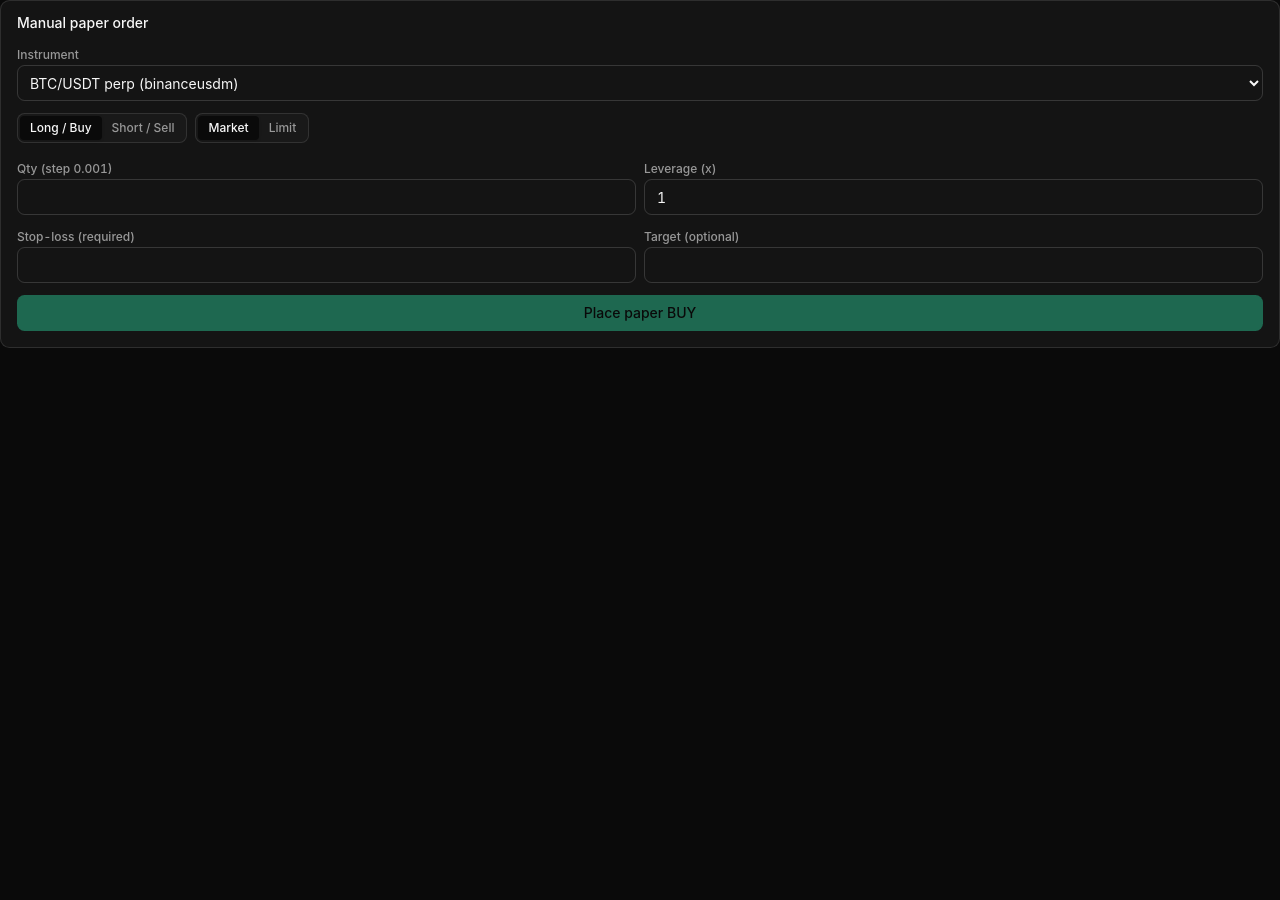
Test case: OrderPanel › places an approved order and offers max-by-risk sizing
Type "0.005" into the field labelled "Qty (step 0.001)" at (326, 197), box 17,179 -> 636,215
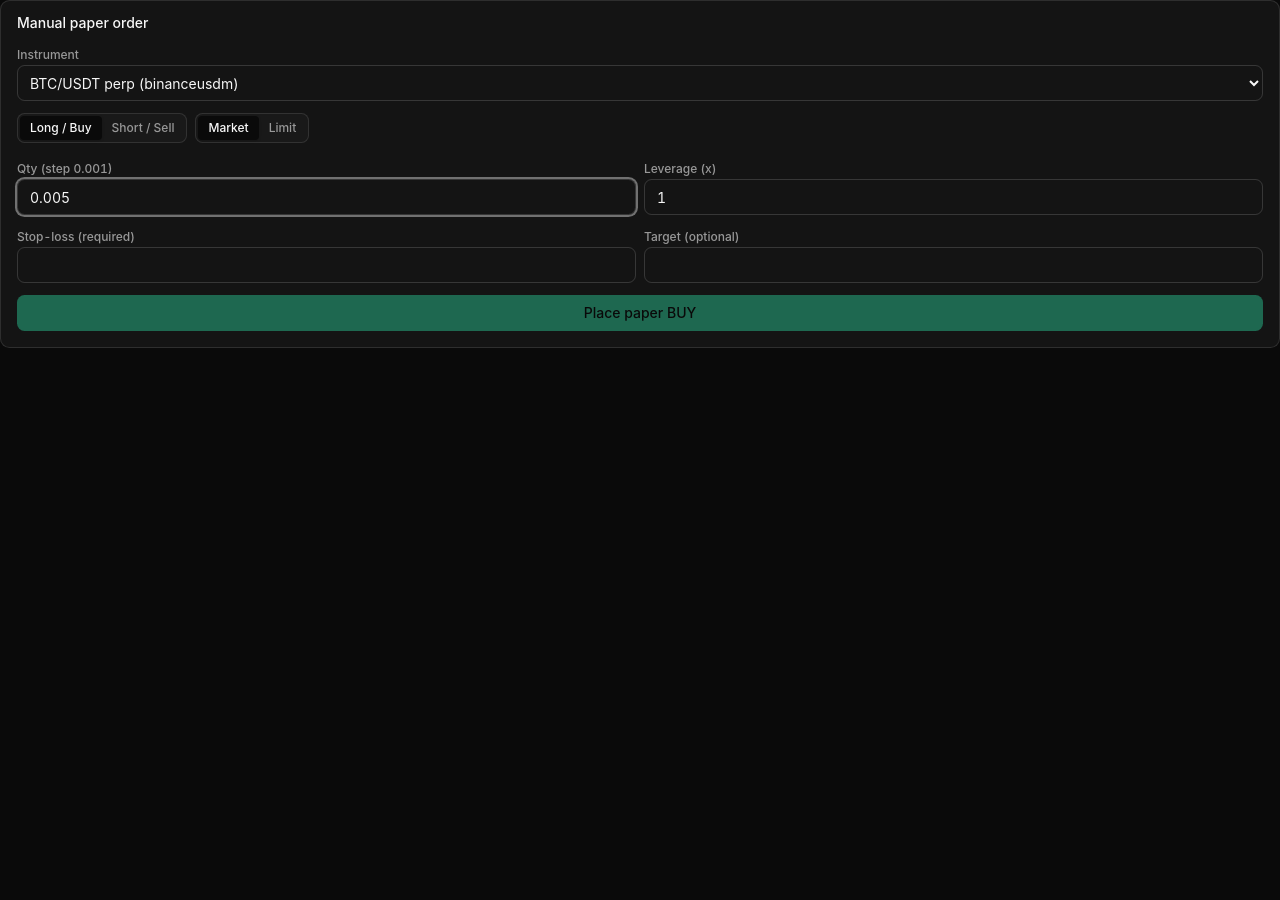
Type "64000" into the field labelled "Stop-loss (required)" at (326, 265), box 17,247 -> 636,283
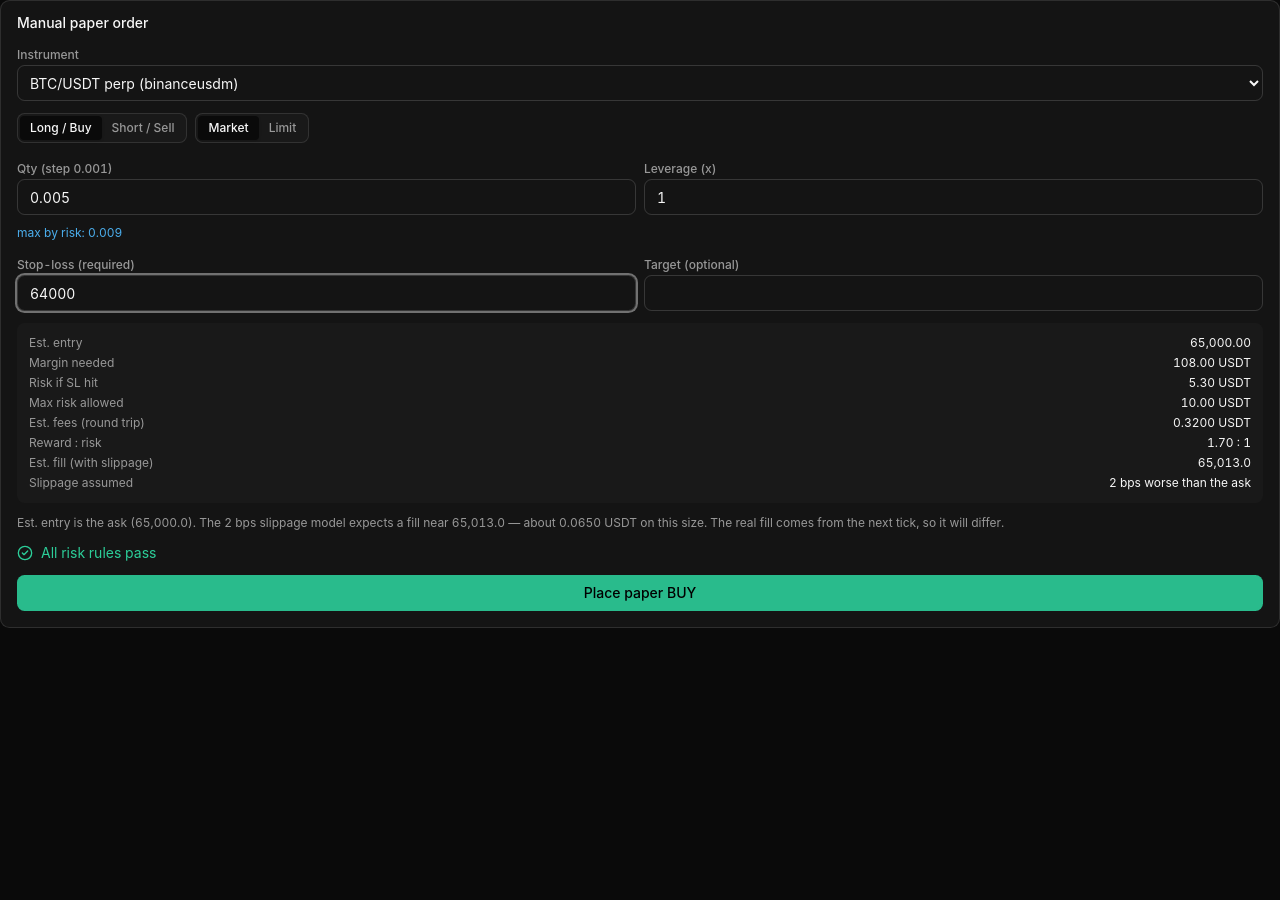
Check: the element with test id "risk-verdict" reads "All risk rules pass", box 41,544 -> 156,561
Click the button "max by risk: 0.009" at (70, 233), box 17,225 -> 122,241
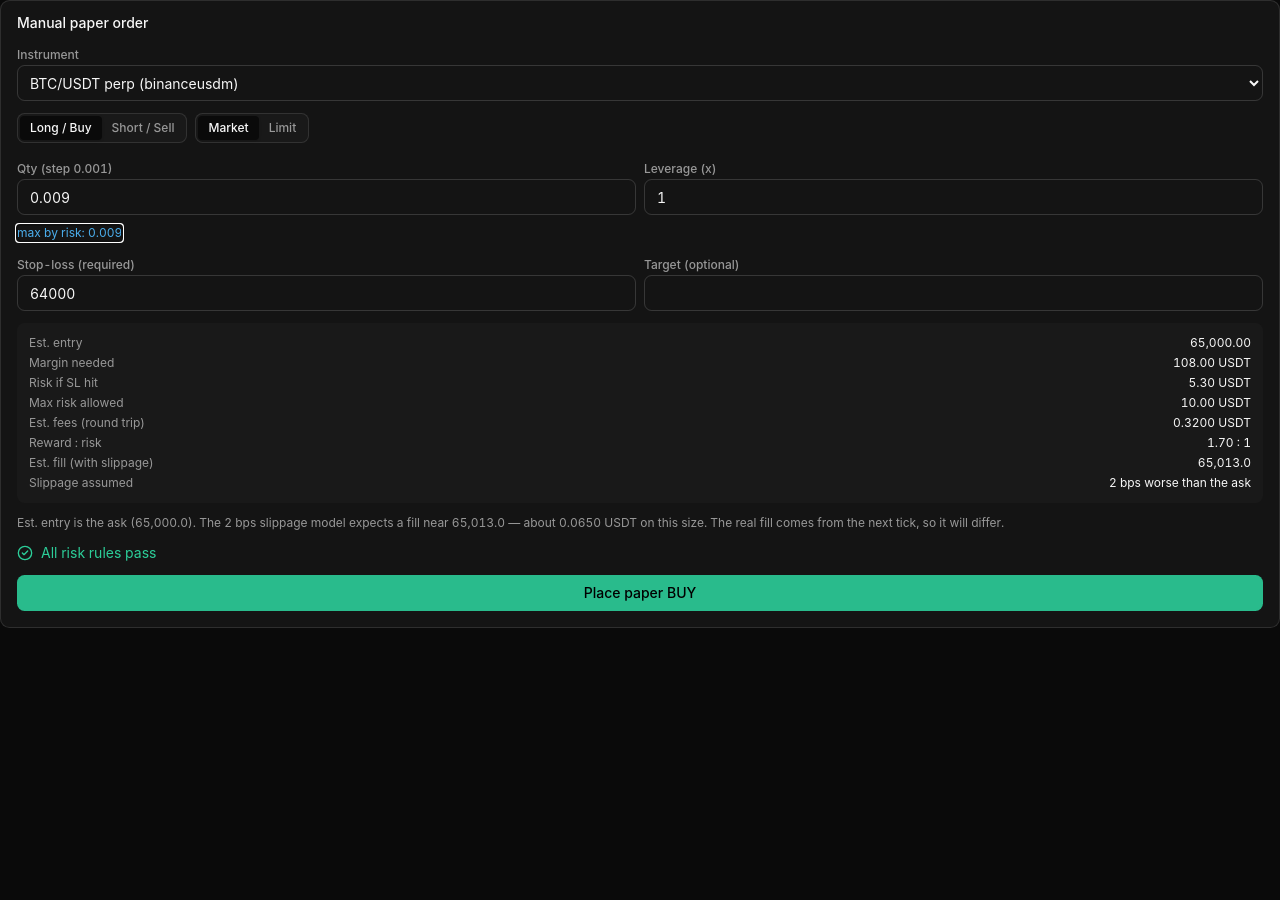
Check: the button "Place paper BUY" is enabled
Check: the field labelled "Qty (step 0.001)" holds "0.009", box 17,179 -> 636,215
Click the button "Place paper BUY" at (640, 593), box 17,575 -> 1263,611
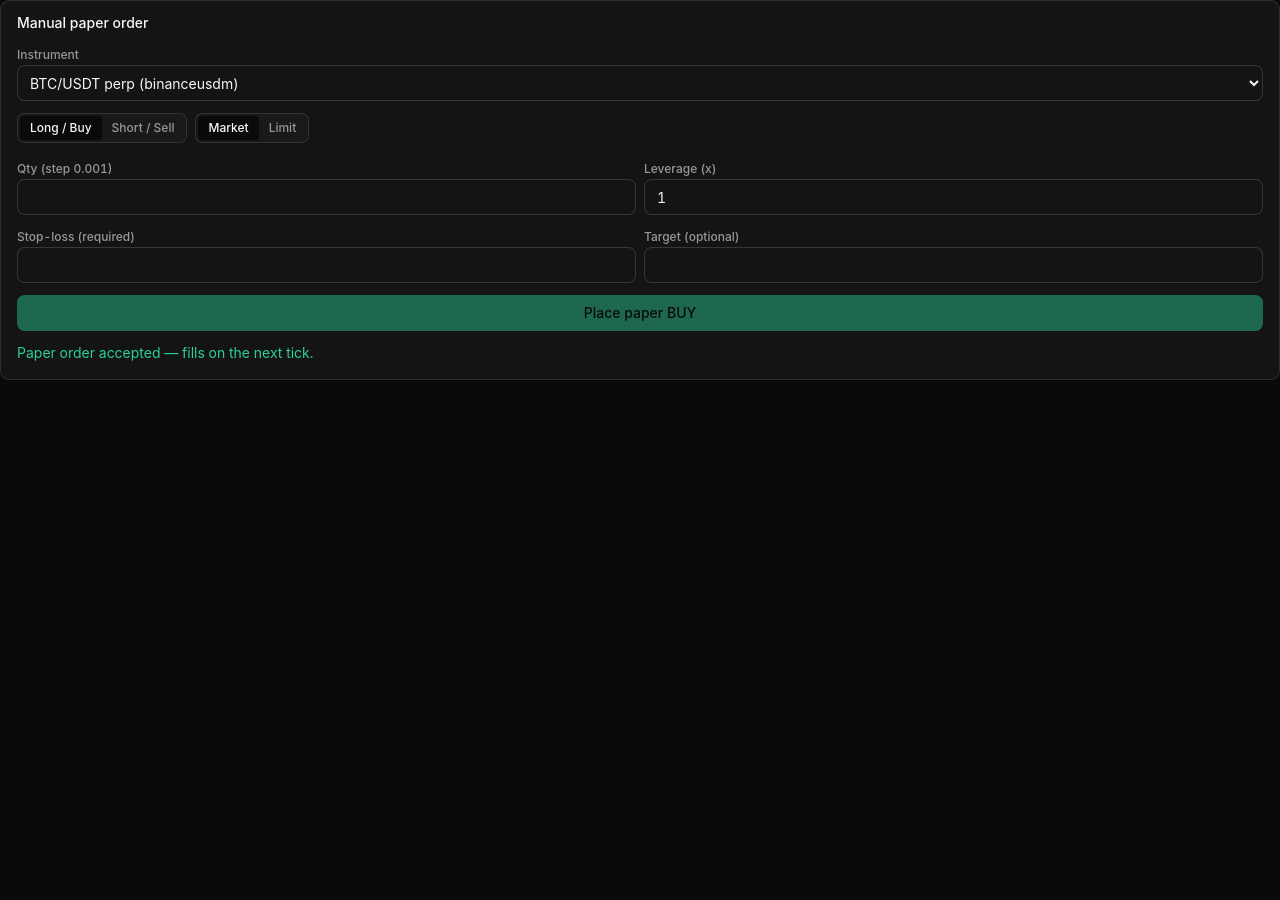
Check: the message shows "accepted", box 17,344 -> 314,361
Check: the field labelled "Qty (step 0.001)" is empty, box 17,179 -> 636,215
Check: the field labelled "Stop-loss (required)" is empty, box 17,247 -> 636,283
